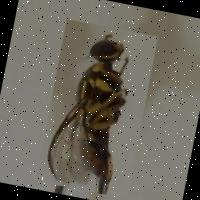Oriental-fruit-fly: (34, 18, 158, 198)
